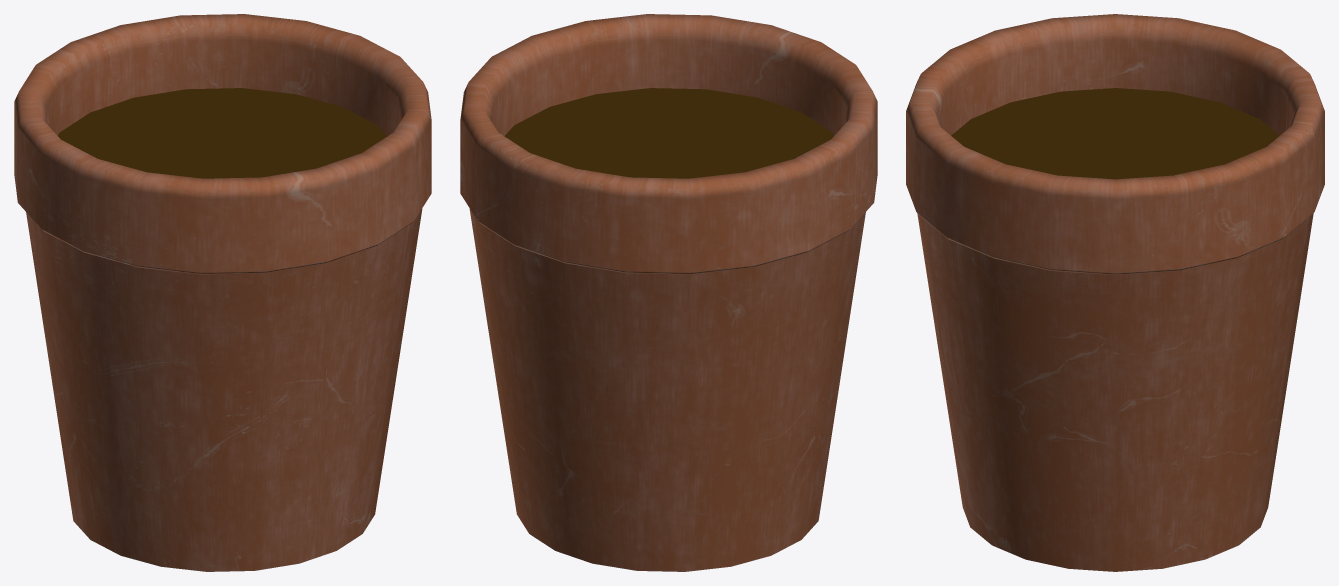
The model's file is obj_maceta_d820c1.glb.
3 views of the same model, side by side, from view 1: azimuth 30°, elevation 25°; view 2: azimuth 150°, elevation 25°; view 3: azimuth 270°, elevation 25° (orthographic).
Visible parts, largest first — view 1: obj_maceta_d820c1; view 2: obj_maceta_d820c1; view 3: obj_maceta_d820c1.
Boxes of the visible parts, x1,y1,x2,y2 form: obj_maceta_d820c1: (14, 14, 431, 571); obj_maceta_d820c1: (460, 14, 877, 571); obj_maceta_d820c1: (906, 14, 1324, 571).
Bounding box in the file's own units: 0.5598 × 0.6 × 0.5598.
1 material, 1 textured.
